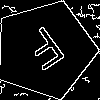F: (20, 24, 74, 80)
